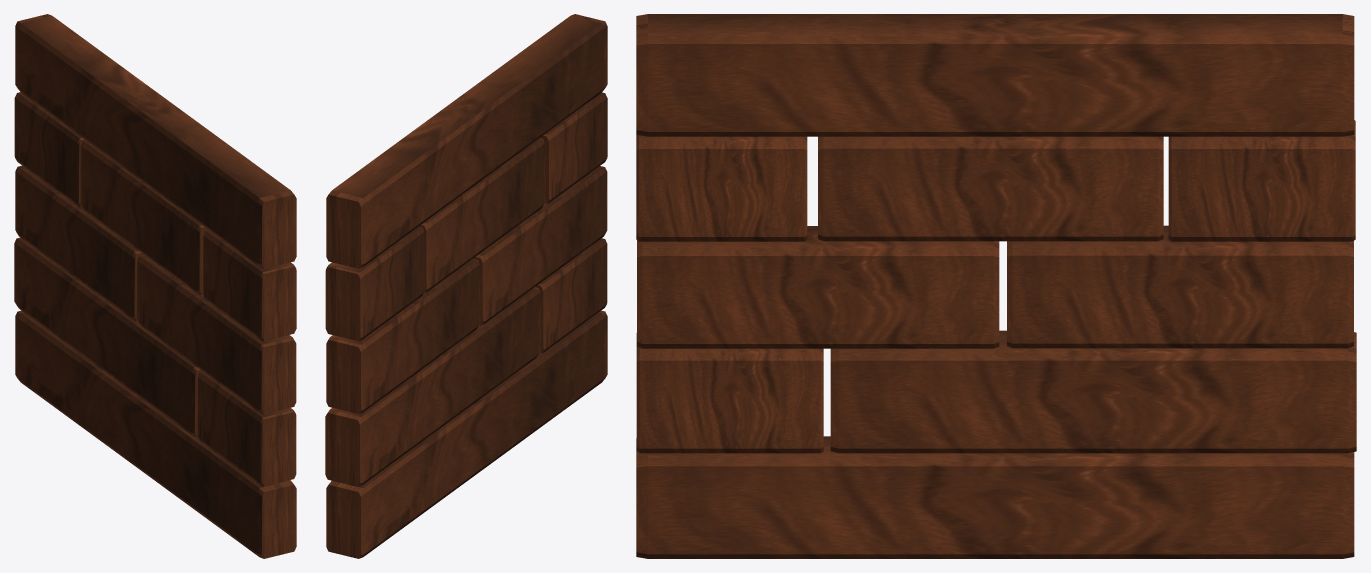
The model's file is cafe_wood_wall.fbx.
3 views of the same model, side by side, from view 1: azimuth 30°, elevation 25°; view 2: azimuth 150°, elevation 25°; view 3: azimuth 270°, elevation 25° (orthographic). The views are drawn at different scales.
Parts seen in each view (by area): view 1: cafe_wood_wall; view 2: cafe_wood_wall; view 3: cafe_wood_wall.
Part boxes in pixels (x1,y1,x2,y2): cafe_wood_wall: [14, 14, 296, 558]; cafe_wood_wall: [325, 14, 607, 558]; cafe_wood_wall: [636, 14, 1356, 558].
Bounding box in the file's own units: 22.31 × 214 × 267.
Materials: 1 (1 with a texture image).
